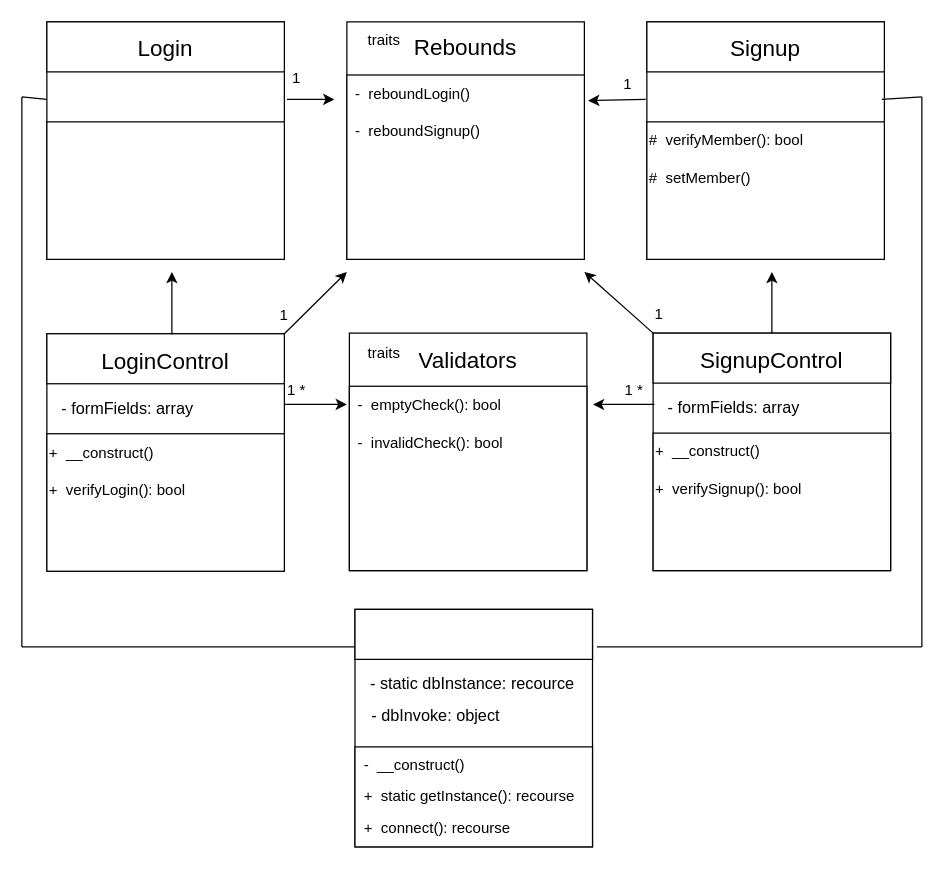
This 945x869 diagram has some shape labels left out. Here are the shapes that lost their labels. From the top down, the centre of each, then its label:
the point at 165,190: # getMember()
the point at 473,633: Database
